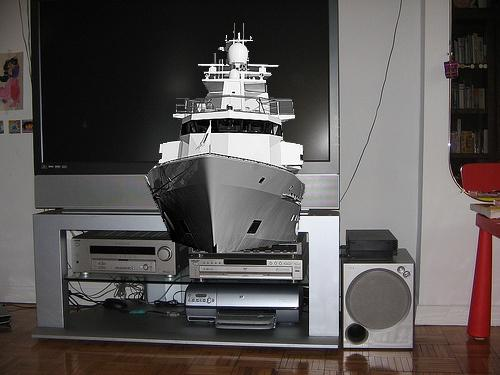tampered: (145, 24, 305, 253)
